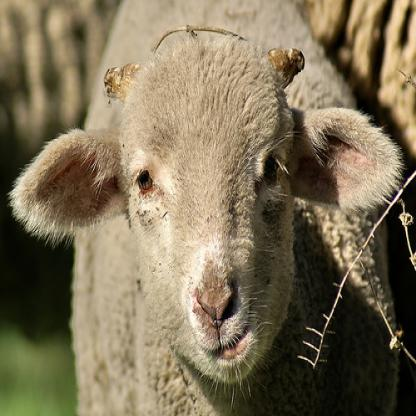sheep: (7, 1, 404, 415)
